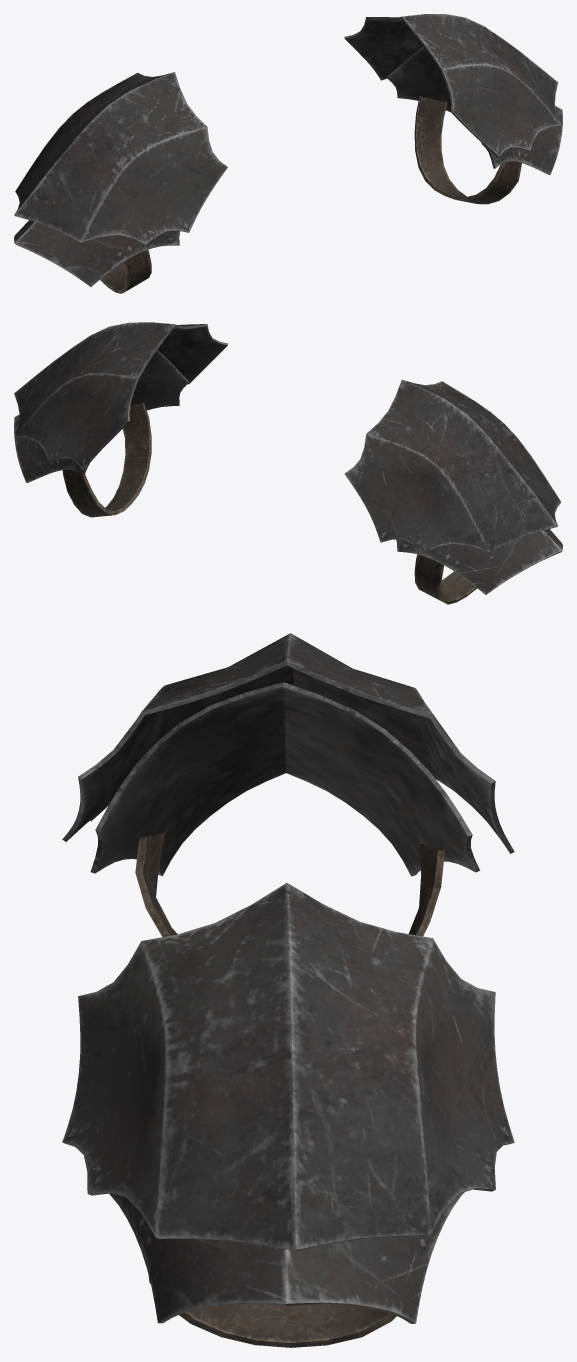
The model's file is sk_uruk_mordor_pauldron_heavy_h.fbx.
The picture shows the model from 3 angles, top to bottom: view 1: azimuth 30°, elevation 25°; view 2: azimuth 150°, elevation 25°; view 3: azimuth 270°, elevation 25°; orthographic projection. The views are drawn at different scales.
Visible parts, largest first — view 1: sk_uruk_mordor_pauldron_heavy_h.1, sk_uruk_mordor_pauldron_heavy_h.2, sk_uruk_mordor_pauldron_heavy_h.0; view 2: sk_uruk_mordor_pauldron_heavy_h.1, sk_uruk_mordor_pauldron_heavy_h.2, sk_uruk_mordor_pauldron_heavy_h.0; view 3: sk_uruk_mordor_pauldron_heavy_h.1, sk_uruk_mordor_pauldron_heavy_h.2, sk_uruk_mordor_pauldron_heavy_h.0.
Part boxes in pixels (bbox=[...]): sk_uruk_mordor_pauldron_heavy_h.1: bbox=[14, 14, 561, 244]; sk_uruk_mordor_pauldron_heavy_h.2: bbox=[14, 46, 562, 286]; sk_uruk_mordor_pauldron_heavy_h.0: bbox=[100, 96, 521, 293]; sk_uruk_mordor_pauldron_heavy_h.1: bbox=[14, 322, 561, 553]; sk_uruk_mordor_pauldron_heavy_h.2: bbox=[14, 350, 562, 594]; sk_uruk_mordor_pauldron_heavy_h.0: bbox=[62, 402, 476, 604]; sk_uruk_mordor_pauldron_heavy_h.1: bbox=[62, 633, 514, 1251]; sk_uruk_mordor_pauldron_heavy_h.2: bbox=[90, 682, 479, 1323]; sk_uruk_mordor_pauldron_heavy_h.0: bbox=[135, 832, 444, 1347].
Bounding box in the file's own units: 0.8779 × 0.3139 × 0.3069.
Materials: 3 (3 with a texture image).
